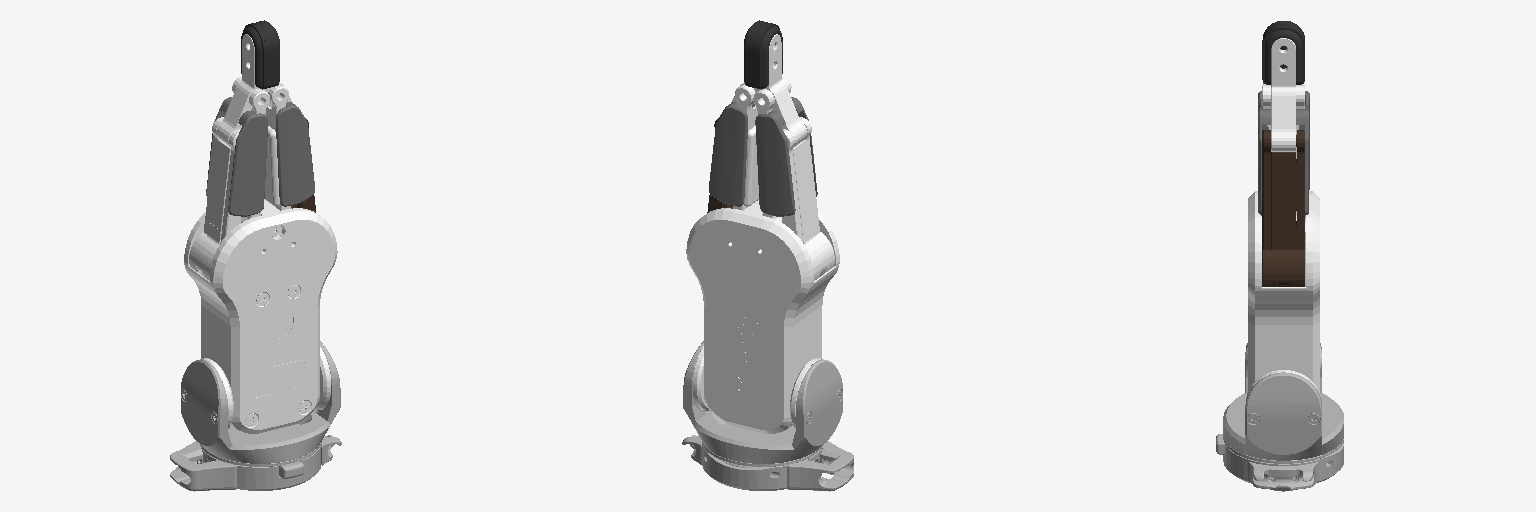
URDF robot description (onrobot_rg6):
<?xml version="1.0" encoding="utf-8"?>
<!-- This URDF was automatically created by SolidWorks to URDF Exporter! Originally created by Stephen Brawner (brawner@gmail.com) 
     Commit Version: 1.6.0-4-g7f85cfe  Build Version: 1.6.7995.38578
     For more information, please see http://wiki.ros.org/sw_urdf_exporter -->
<robot
  name="onrobot_rg6">
  <link
    name="base_link">
    <inertial>
      <origin
        xyz="-0.00121788599047724 -0.000550668033101437 0.0187282967117692"
        rpy="0 0 0" />
      <mass
        value="0.204758708246786" />
      <inertia
        ixx="6.64001336616449E-05"
        ixy="-1.76622602816932E-08"
        ixz="3.54902398565887E-07"
        iyy="6.08703694320358E-05"
        iyz="-1.99495160489733E-07"
        izz="0.000104892887141359" />
    </inertial>
    <visual>
      <origin
        xyz="0 0 0"
        rpy="0 0 0" />
      <geometry>
        <mesh
          filename="package://onrobot_rg6/meshes/base_link.STL" />
      </geometry>
      <material
        name="">
        <color
          rgba="0.752941176470588 0.752941176470588 0.752941176470588 1" />
      </material>
    </visual>
    <collision>
      <origin
        xyz="0 0 0"
        rpy="0 0 0" />
      <geometry>
        <mesh
          filename="package://onrobot_rg6/meshes/base_link.STL" />
      </geometry>
    </collision>
  </link>
  <link
    name="body_link">
    <inertial>
      <origin
        xyz="0.0434153623779559 5.3786957841064E-05 -5.29481917390598E-05"
        rpy="0 0 0" />
      <mass
        value="0.60552714704761" />
      <inertia
        ixx="0.000247806198136595"
        ixy="-3.09068060110115E-06"
        ixz="6.82132501556445E-07"
        iyy="0.00101875038940284"
        iyz="5.58944896976989E-08"
        izz="0.000814988330532685" />
    </inertial>
    <visual>
      <origin
        xyz="0 0 0"
        rpy="0 0 0" />
      <geometry>
        <mesh
          filename="package://onrobot_rg6/meshes/body_link.STL" />
      </geometry>
      <material
        name="">
        <color
          rgba="1 1 1 1" />
      </material>
    </visual>
    <collision>
      <origin
        xyz="0 0 0"
        rpy="0 0 0" />
      <geometry>
        <mesh
          filename="package://onrobot_rg6/meshes/body_link.STL" />
      </geometry>
    </collision>
  </link>
  <joint
    name="body_joint"
    type="revolute">
    <origin
      xyz="0 0 0.0503000000000003"
      rpy="0 -1.5707963267949 0" />
    <parent
      link="base_link" />
    <child
      link="body_link" />
    <axis
      xyz="0 0 1" />
    <limit
      lower="-1.5708"
      upper="1.5708"
      effort="140"
      velocity="1" />
  </joint>
  <link
    name="left_outer_proximal_finger_link">
    <inertial>
      <origin
        xyz="0.0177338821259218 -8.32951273863174E-05 -6.63580284241195E-08"
        rpy="0 0 0" />
      <mass
        value="0.0848117981062213" />
      <inertia
        ixx="8.71821520908564E-06"
        ixy="1.34526866604961E-06"
        ixz="3.84850856626284E-11"
        iyy="5.52144884000519E-05"
        iyz="-4.03714649653644E-11"
        izz="5.4966795562473E-05" />
    </inertial>
    <visual>
      <origin
        xyz="0 0 0"
        rpy="0 0 0" />
      <geometry>
        <mesh
          filename="package://onrobot_rg6/meshes/outer_proximal_finger_link.STL" />
      </geometry>
      <material
        name="">
        <color
          rgba="0.313725490196078 0.247058823529412 0.203921568627451 1" />
      </material>
    </visual>
    <collision>
      <origin
        xyz="0 0 0"
        rpy="0 0 0" />
      <geometry>
        <mesh
          filename="package://onrobot_rg6/meshes/outer_proximal_finger_link.STL" />
      </geometry>
    </collision>
  </link>
  <joint
    name="finger_joint"
    type="revolute">
    <origin
      xyz="0.0849999999999914 0 -0.0238499999999955"
      rpy="-1.5707963267949 0 0" />
    <parent
      link="body_link" />
    <child
      link="left_outer_proximal_finger_link" />
    <axis
      xyz="0 0 1" />
    <limit
      lower="0"
      upper="1.1928"
      effort="100"
      velocity="1" />
  </joint>
  <link
    name="left_finger_base_link">
    <inertial>
      <origin
        xyz="0.0245303578322192 -0.0101016281440233 -9.99975309271899E-05"
        rpy="0 0 0" />
      <mass
        value="0.0219132001177097" />
      <inertia
        ixx="1.29440989381929E-06"
        ixy="2.07037163398328E-06"
        ixz="-4.84504967490224E-13"
        iyy="7.54766158511745E-06"
        iyz="4.36721422019022E-13"
        izz="8.16537121487209E-06" />
    </inertial>
    <visual>
      <origin
        xyz="0 0 0"
        rpy="0 0 0" />
      <geometry>
        <mesh
          filename="package://onrobot_rg6/meshes/finger_base_link.STL" />
      </geometry>
      <material
        name="">
        <color
          rgba="1 1 1 1" />
      </material>
    </visual>
    <collision>
      <origin
        xyz="0 0 0"
        rpy="0 0 0" />
      <geometry>
        <mesh
          filename="package://onrobot_rg6/meshes/finger_base_link.STL" />
      </geometry>
    </collision>
  </link>
  <joint
    name="left_finger_base_link"
    type="continuous">
    <origin
      xyz="0.0798896739261193 -0.00419999999758666 0"
      rpy="0 0 0" />
    <parent
      link="left_outer_proximal_finger_link" />
    <child
      link="left_finger_base_link" />
    <axis
      xyz="0 0 1" />
    <mimic
      joint="finger_joint"
      multiplier="-1"
      offset="0" />
  </joint>
  <link
    name="left_finger_cover_link">
    <inertial>
      <origin
        xyz="-0.0272052614455263 0.00166203526226322 -9.99202916528356E-05"
        rpy="0 0 0" />
      <mass
        value="0.00654133884855527" />
      <inertia
        ixx="2.20130240213327E-07"
        ixy="1.57708709316053E-07"
        ixz="-7.28649779330084E-13"
        iyy="2.11303877150424E-06"
        iyz="-1.81532285162983E-13"
        izz="2.307595228608E-06" />
    </inertial>
    <visual>
      <origin
        xyz="0 0 0"
        rpy="0 0 0" />
      <geometry>
        <mesh
          filename="package://onrobot_rg6/meshes/finger_cover_link.STL" />
      </geometry>
      <material
        name="">
        <color
          rgba="0.501960784313725 0.501960784313725 0.501960784313725 1" />
      </material>
    </visual>
    <collision>
      <origin
        xyz="0 0 0"
        rpy="0 0 0" />
      <geometry>
        <mesh
          filename="package://onrobot_rg6/meshes/finger_cover_link.STL" />
      </geometry>
    </collision>
  </link>
  <joint
    name="left_finger_cover_joint"
    type="continuous">
    <origin
      xyz="0.01155 -0.00664999999999995 0"
      rpy="0 0 0" />
    <parent
      link="left_finger_base_link" />
    <child
      link="left_finger_cover_link" />
    <axis
      xyz="0 0 1" />
    <mimic
      joint="finger_joint"
      multiplier="1"
      offset="0" />
  </joint>
  <link
    name="left_finger_tip_link">
    <inertial>
      <origin
        xyz="-0.000415245269094811 9.99885104498482E-05 -0.000165694664188377"
        rpy="0 0 0" />
      <mass
        value="0.00794964440363267" />
      <inertia
        ixx="5.15212191011275E-07"
        ixy="-8.74258433074447E-13"
        ixz="-1.51311624243258E-08"
        iyy="8.83850409371737E-07"
        iyz="4.99311599525026E-13"
        izz="1.27369503224217E-06" />
    </inertial>
    <visual>
      <origin
        xyz="0 0 0"
        rpy="0 0 0" />
      <geometry>
        <mesh
          filename="package://onrobot_rg6/meshes/fingertip_standard_link.STL" />
      </geometry>
      <material
        name="">
        <color
          rgba="0.250980392156863 0.250980392156863 0.250980392156863 1" />
      </material>
    </visual>
    <collision>
      <origin
        xyz="0 0 0"
        rpy="0 0 0" />
      <geometry>
        <mesh
          filename="package://onrobot_rg6/meshes/fingertip_standard_link.STL" />
      </geometry>
    </collision>
  </link>
  <joint
    name="left_finger_tip_joint"
    type="fixed">
    <origin
      xyz="0.0479000000000002 -0.0196000000048173 0"
      rpy="-1.57079632679489 0 0" />
    <parent
      link="left_finger_base_link" />
    <child
      link="left_finger_tip_link" />
    <axis
      xyz="0 0 0" />
  </joint>
  <link
    name="left_inner_proximal_finger_link">
    <inertial>
      <origin
        xyz="0.0388879789845956 -0.00254047815772547 -0.000105026480050108"
        rpy="0 0 0" />
      <mass
        value="0.0209379492759949" />
      <inertia
        ixx="1.66325652747798E-06"
        ixy="8.5496814274727E-07"
        ixz="-2.4758818329976E-12"
        iyy="1.76493383239348E-05"
        iyz="2.44875952455023E-13"
        izz="1.63390526801637E-05" />
    </inertial>
    <visual>
      <origin
        xyz="0 0 0"
        rpy="0 0 0" />
      <geometry>
        <mesh
          filename="package://onrobot_rg6/meshes/inner_proximal_finger_link.STL" />
      </geometry>
      <material
        name="">
        <color
          rgba="1 1 1 1" />
      </material>
    </visual>
    <collision>
      <origin
        xyz="0 0 0"
        rpy="0 0 0" />
      <geometry>
        <mesh
          filename="package://onrobot_rg6/meshes/inner_proximal_finger_link.STL" />
      </geometry>
    </collision>
  </link>
  <joint
    name="left_inner_proximal_finger_joint"
    type="continuous">
    <origin
      xyz="0.1081 0 -0.0105499999999994"
      rpy="-1.5707963267949 0 0" />
    <parent
      link="body_link" />
    <child
      link="left_inner_proximal_finger_link" />
    <axis
      xyz="0 0 1" />
    <mimic
      joint="finger_joint"
      multiplier="1"
      offset="0" />
  </joint>
  <link
    name="right_outer_proximal_finger_link">
    <inertial>
      <origin
        xyz="0.0177338821257871 -8.32951273467969E-05 -6.63580395243983E-08"
        rpy="0 0 0" />
      <mass
        value="0.0848117981059909" />
      <inertia
        ixx="8.71821520907421E-06"
        ixy="1.34526866599051E-06"
        ixz="3.84851186671045E-11"
        iyy="5.52144883997528E-05"
        iyz="-4.03714700288834E-11"
        izz="5.496679556217E-05" />
    </inertial>
    <visual>
      <origin
        xyz="0 0 0"
        rpy="0 0 0" />
      <geometry>
        <mesh
          filename="package://onrobot_rg6/meshes/outer_proximal_finger_link.STL" />
      </geometry>
      <material
        name="">
        <color
          rgba="1 1 1 1" />
      </material>
    </visual>
    <collision>
      <origin
        xyz="0 0 0"
        rpy="0 0 0" />
      <geometry>
        <mesh
          filename="package://onrobot_rg6/meshes/outer_proximal_finger_link.STL" />
      </geometry>
    </collision>
  </link>
  <joint
    name="right_outer_proximal_finger_joint"
    type="revolute">
    <origin
      xyz="0.0850000000000254 0 0.0237500000000128"
      rpy="1.5707963267949 0 0" />
    <parent
      link="body_link" />
    <child
      link="right_outer_proximal_finger_link" />
    <axis
      xyz="0 0 1" />
    <limit
      lower="0"
      upper="0"
      effort="0"
      velocity="0" />
    <mimic
      joint="finger_joint"
      multiplier="1"
      offset="0" />
  </joint>
  <link
    name="right_finger_base_link">
    <inertial>
      <origin
        xyz="0.0245303578322203 -0.0101016281440251 2.46907248070556E-09"
        rpy="0 0 0" />
      <mass
        value="0.0219132001177097" />
      <inertia
        ixx="1.29440989381929E-06"
        ixy="2.07037163398328E-06"
        ixz="-4.84504982625829E-13"
        iyy="7.54766158511746E-06"
        iyz="4.36721426440262E-13"
        izz="8.16537121487209E-06" />
    </inertial>
    <visual>
      <origin
        xyz="0 0 0"
        rpy="0 0 0" />
      <geometry>
        <mesh
          filename="package://onrobot_rg6/meshes/finger_base_link.STL" />
      </geometry>
      <material
        name="">
        <color
          rgba="1 1 1 1" />
      </material>
    </visual>
    <collision>
      <origin
        xyz="0 0 0"
        rpy="0 0 0" />
      <geometry>
        <mesh
          filename="package://onrobot_rg6/meshes/finger_base_link.STL" />
      </geometry>
    </collision>
  </link>
  <joint
    name="right_finger_base_joint"
    type="continuous">
    <origin
      xyz="0.0798896739260845 -0.00419999999760181 0"
      rpy="0 0 0" />
    <parent
      link="right_outer_proximal_finger_link" />
    <child
      link="right_finger_base_link" />
    <axis
      xyz="0 0 1" />
    <mimic
      joint="finger_joint"
      multiplier="-1"
      offset="0" />
  </joint>
  <link
    name="right_finger_cover_link">
    <inertial>
      <origin
        xyz="-0.0272052614455309 0.00166203526231937 7.9708347079959E-08"
        rpy="0 0 0" />
      <mass
        value="0.0065413388485553" />
      <inertia
        ixx="2.20130241120385E-07"
        ixy="1.5770870931553E-07"
        ixz="-7.28647952226547E-13"
        iyy="2.11303877241158E-06"
        iyz="-1.81531566232666E-13"
        izz="2.3075952286081E-06" />
    </inertial>
    <visual>
      <origin
        xyz="0 0 0"
        rpy="0 0 0" />
      <geometry>
        <mesh
          filename="package://onrobot_rg6/meshes/finger_cover_link.STL" />
      </geometry>
      <material
        name="">
        <color
          rgba="0.501960784313725 0.501960784313725 0.501960784313725 1" />
      </material>
    </visual>
    <collision>
      <origin
        xyz="0 0 0"
        rpy="0 0 0" />
      <geometry>
        <mesh
          filename="package://onrobot_rg6/meshes/finger_cover_link.STL" />
      </geometry>
    </collision>
  </link>
  <joint
    name="right_finger_cover_joint"
    type="continuous">
    <origin
      xyz="0.01155 -0.00665 0"
      rpy="0 0 0" />
    <parent
      link="right_finger_base_link" />
    <child
      link="right_finger_cover_link" />
    <axis
      xyz="0 0 1" />
    <mimic
      joint="finger_joint"
      multiplier="1"
      offset="0" />
  </joint>
  <link
    name="right_finger_tip_link">
    <inertial>
      <origin
        xyz="-0.000415245269094811 -0.000100011489549911 -0.000165694669005056"
        rpy="0 0 0" />
      <mass
        value="0.00794964440363267" />
      <inertia
        ixx="5.15212191011276E-07"
        ixy="-8.74258433220442E-13"
        ixz="-1.51311624243253E-08"
        iyy="8.83850409371738E-07"
        iyz="4.99311598253796E-13"
        izz="1.27369503224217E-06" />
    </inertial>
    <visual>
      <origin
        xyz="0 0 0"
        rpy="0 0 0" />
      <geometry>
        <mesh
          filename="package://onrobot_rg6/meshes/fingertip_standard_link.STL" />
      </geometry>
      <material
        name="">
        <color
          rgba="0.250980392156863 0.250980392156863 0.250980392156863 1" />
      </material>
    </visual>
    <collision>
      <origin
        xyz="0 0 0"
        rpy="0 0 0" />
      <geometry>
        <mesh
          filename="package://onrobot_rg6/meshes/fingertip_standard_link.STL" />
      </geometry>
    </collision>
  </link>
  <joint
    name="right_finger_tip_joint"
    type="fixed">
    <origin
      xyz="0.0479 -0.0196 0"
      rpy="-1.5708 0 0" />
    <parent
      link="right_finger_base_link" />
    <child
      link="right_finger_tip_link" />
    <axis
      xyz="0 0 0" />
  </joint>
  <link
    name="right_inner_proximal_finger_link">
    <inertial>
      <origin
        xyz="0.0388879789845877 -0.00254047815756097 0.000105017186589876"
        rpy="0 0 0" />
      <mass
        value="0.0209379492759949" />
      <inertia
        ixx="1.66325652747629E-06"
        ixy="8.54968142731476E-07"
        ixz="-2.47588181911418E-12"
        iyy="1.76493383239365E-05"
        iyz="2.44875941899567E-13"
        izz="1.63390526801636E-05" />
    </inertial>
    <visual>
      <origin
        xyz="0 0 0"
        rpy="0 0 0" />
      <geometry>
        <mesh
          filename="package://onrobot_rg6/meshes/inner_proximal_finger_link.STL" />
      </geometry>
      <material
        name="">
        <color
          rgba="1 1 1 1" />
      </material>
    </visual>
    <collision>
      <origin
        xyz="0 0 0"
        rpy="0 0 0" />
      <geometry>
        <mesh
          filename="package://onrobot_rg6/meshes/inner_proximal_finger_link.STL" />
      </geometry>
    </collision>
  </link>
  <joint
    name="right_inner_proximal_finger_joint"
    type="continuous">
    <origin
      xyz="0.1081 0 0.0104500000000006"
      rpy="1.5707963267949 0 0" />
    <parent
      link="body_link" />
    <child
      link="right_inner_proximal_finger_link" />
    <axis
      xyz="0 0 1" />
    <mimic
      joint="finger_joint"
      multiplier="1"
      offset="0" />
  </joint>
</robot>

--- What the picture shows (computed from the rendered views, not written in the file) ---
Views: 3 orthographic renders of the robot side by side, from view 1: azimuth 30°, elevation 25°; view 2: azimuth 150°, elevation 25°; view 3: azimuth 270°, elevation 25°.
Model onrobot_rg6 with 12 links and 11 joints (3 revolute, 6 continuous, 2 fixed), rooted at base_link, posed every joint at zero.
Visible links, largest first — view 1: body_link, base_link, right_finger_cover_link, right_outer_proximal_finger_link, left_finger_cover_link, right_finger_base_link, left_inner_proximal_finger_link, right_finger_tip_link, left_finger_tip_link, right_inner_proximal_finger_link; view 2: body_link, base_link, right_finger_cover_link, right_outer_proximal_finger_link, left_finger_cover_link, right_finger_base_link, left_inner_proximal_finger_link, right_finger_tip_link, left_finger_tip_link, right_inner_proximal_finger_link; view 3: base_link, body_link, left_outer_proximal_finger_link, left_finger_base_link, left_finger_cover_link, left_finger_tip_link.
Link boxes in pixels (x1,y1,x2,y2): body_link: (184,199,337,433); base_link: (170,341,341,491); right_finger_cover_link: (206,97,267,216); right_outer_proximal_finger_link: (189,117,241,280); left_finger_cover_link: (276,102,314,206); right_finger_base_link: (216,34,266,145); left_inner_proximal_finger_link: (265,84,291,210); right_finger_tip_link: (241,20,278,88); left_finger_tip_link: (243,22,279,89); right_inner_proximal_finger_link: (232,77,269,222); body_link: (686,200,839,433); base_link: (682,341,853,491); right_finger_cover_link: (755,97,817,216); right_outer_proximal_finger_link: (782,117,834,280); left_finger_cover_link: (709,101,747,206); right_finger_base_link: (757,34,807,145); left_inner_proximal_finger_link: (732,84,758,210); right_finger_tip_link: (745,20,782,88); left_finger_tip_link: (744,22,779,89); right_inner_proximal_finger_link: (753,77,791,222); base_link: (1216,343,1343,491); body_link: (1245,191,1321,405); left_outer_proximal_finger_link: (1262,130,1304,286); left_finger_base_link: (1271,38,1295,151); left_finger_cover_link: (1258,107,1308,215); left_finger_tip_link: (1262,21,1304,84).
Bounding box of the posed robot: 0.1047 × 0.0755 × 0.2842 m (x, y, z).
12 mesh visuals loaded from 7 distinct referenced files (7 binary STL).
